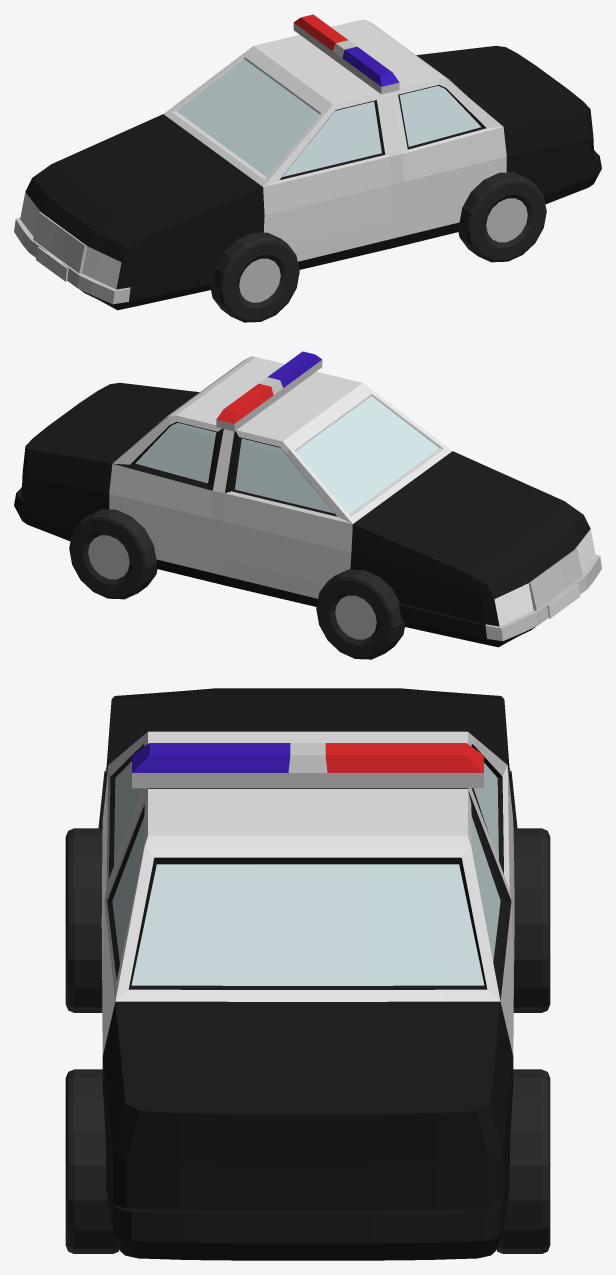
File: CopCar.fbx
3 renders of one model, top to bottom at view 1: azimuth 30°, elevation 25°; view 2: azimuth 150°, elevation 25°; view 3: azimuth 270°, elevation 25°, orthographic. The views are drawn at different scales.
Visible parts, largest first — view 1: Car_Body, Tires; view 2: Car_Body, Tires; view 3: Car_Body, Tires.
Part boxes in pixels (x1,y1,x2,y2): Car_Body: (14,14,601,310); Tires: (211,172,546,322); Car_Body: (14,351,601,647); Tires: (69,509,404,659); Car_Body: (98,688,517,1260); Tires: (65,828,550,1253).
Bounding box in the file's own units: 5.74 × 2.36 × 2.14.
